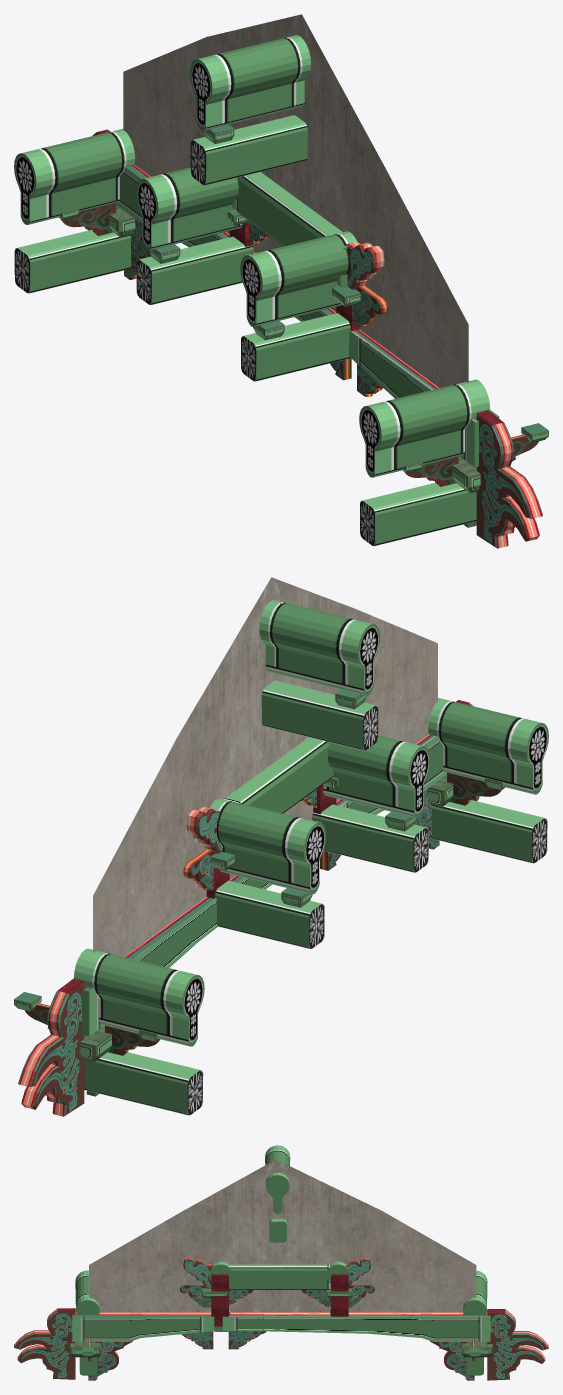
Rendered from SM_R_MiddleBeam_17.fbx.
The picture shows the model from 3 angles, top to bottom: view 1: azimuth 30°, elevation 25°; view 2: azimuth 150°, elevation 25°; view 3: azimuth 270°, elevation 25°; orthographic projection. The views are drawn at different scales.
Visible parts, largest first — view 1: SM_R_MiddleBeam_17; view 2: SM_R_MiddleBeam_17; view 3: SM_R_MiddleBeam_17.
Part boxes in pixels (x1,y1,x2,y2): SM_R_MiddleBeam_17: [14, 14, 548, 548]; SM_R_MiddleBeam_17: [14, 577, 548, 1116]; SM_R_MiddleBeam_17: [14, 1145, 548, 1380].
Bounding box in the file's own units: 174 × 811 × 366.
Materials: 7 (7 with a texture image).
